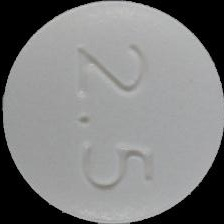53489-386: (0, 0, 224, 224)
